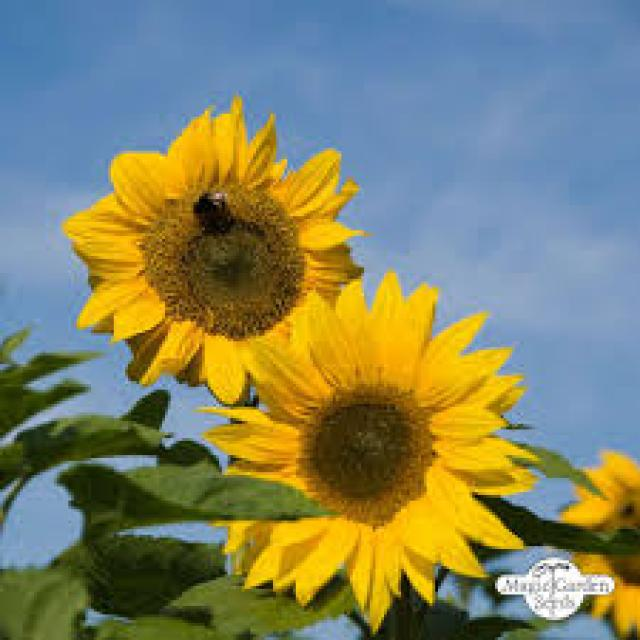sunflower: (182, 256, 549, 640), (56, 86, 395, 418), (554, 438, 640, 640)
